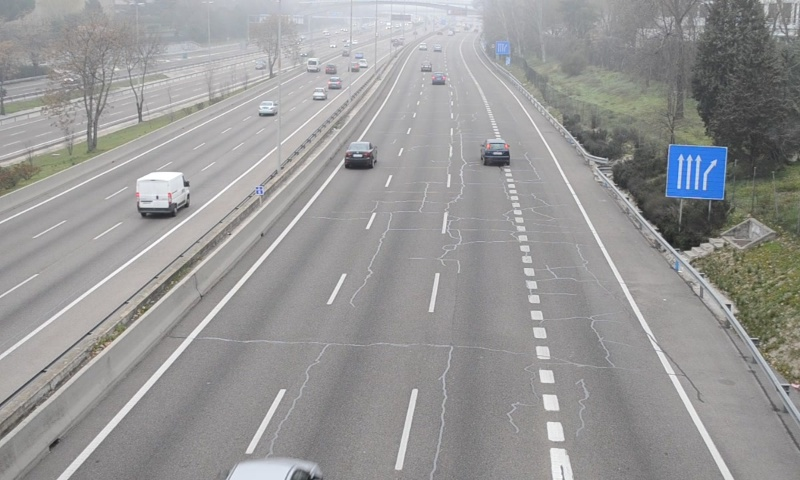car: (345, 142, 376, 167), (481, 139, 510, 164)
